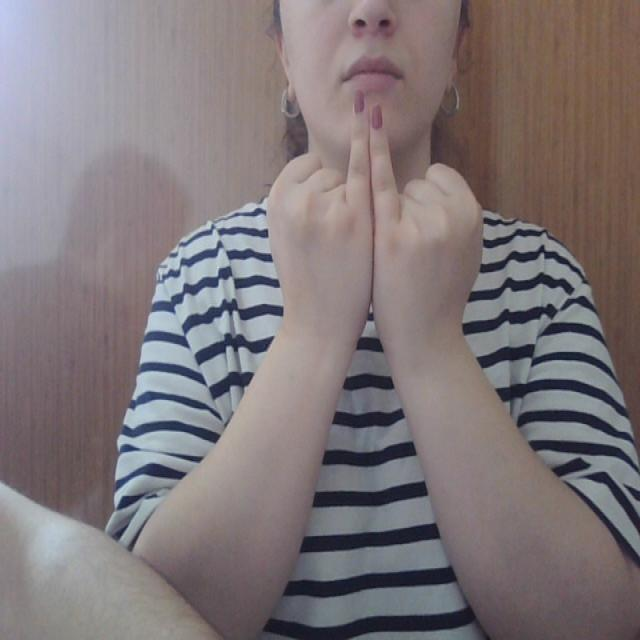Kardes: (261, 89, 485, 338)
